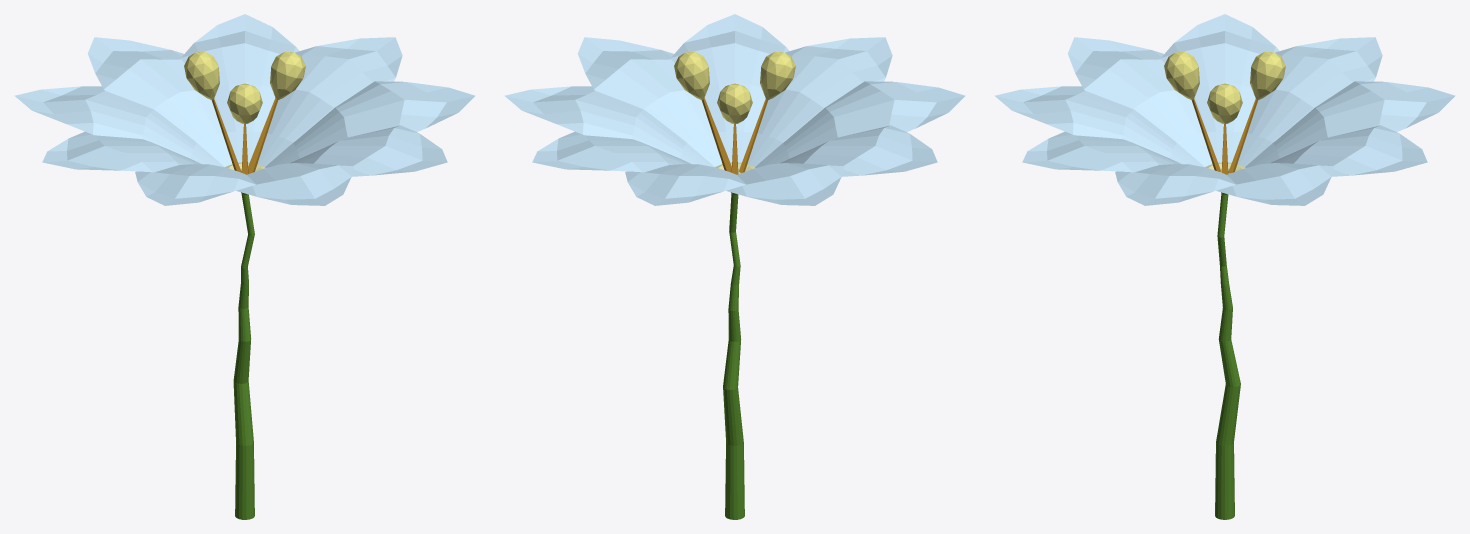
The model's file is flower2.fbx.
The picture shows the model from 3 angles, left to right: view 1: azimuth 30°, elevation 25°; view 2: azimuth 150°, elevation 25°; view 3: azimuth 270°, elevation 25°; orthographic projection.
Parts seen in each view (by area): view 1: petal, base, pollen, stamen; view 2: petal, base, pollen, stamen; view 3: petal, base, pollen, stamen.
Boxes of the visible parts, bbox=[...] form: petal: bbox=[14, 14, 475, 205]; base: bbox=[225, 162, 265, 519]; pollen: bbox=[184, 51, 305, 123]; stamen: bbox=[211, 98, 278, 174]; petal: bbox=[504, 14, 965, 205]; base: bbox=[715, 162, 755, 519]; pollen: bbox=[674, 51, 795, 123]; stamen: bbox=[701, 98, 768, 174]; petal: bbox=[994, 14, 1455, 205]; base: bbox=[1205, 162, 1245, 519]; pollen: bbox=[1164, 51, 1285, 123]; stamen: bbox=[1191, 98, 1258, 174].
Bounding box in the file's own units: 775 × 850 × 787.
